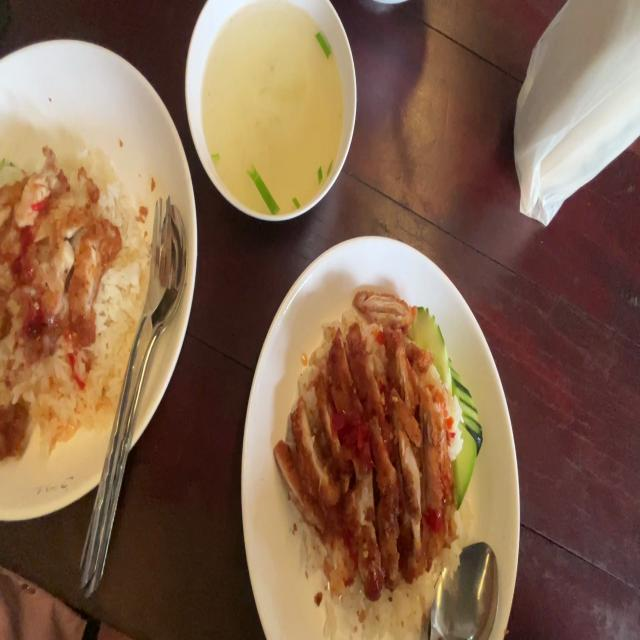chicken_rice: (274, 287, 470, 609), (0, 135, 145, 436)
cucumber: (447, 346, 486, 508), (412, 294, 454, 400), (0, 147, 19, 187)
fried_chicken: (273, 286, 455, 576), (0, 147, 119, 346), (0, 394, 32, 461)
